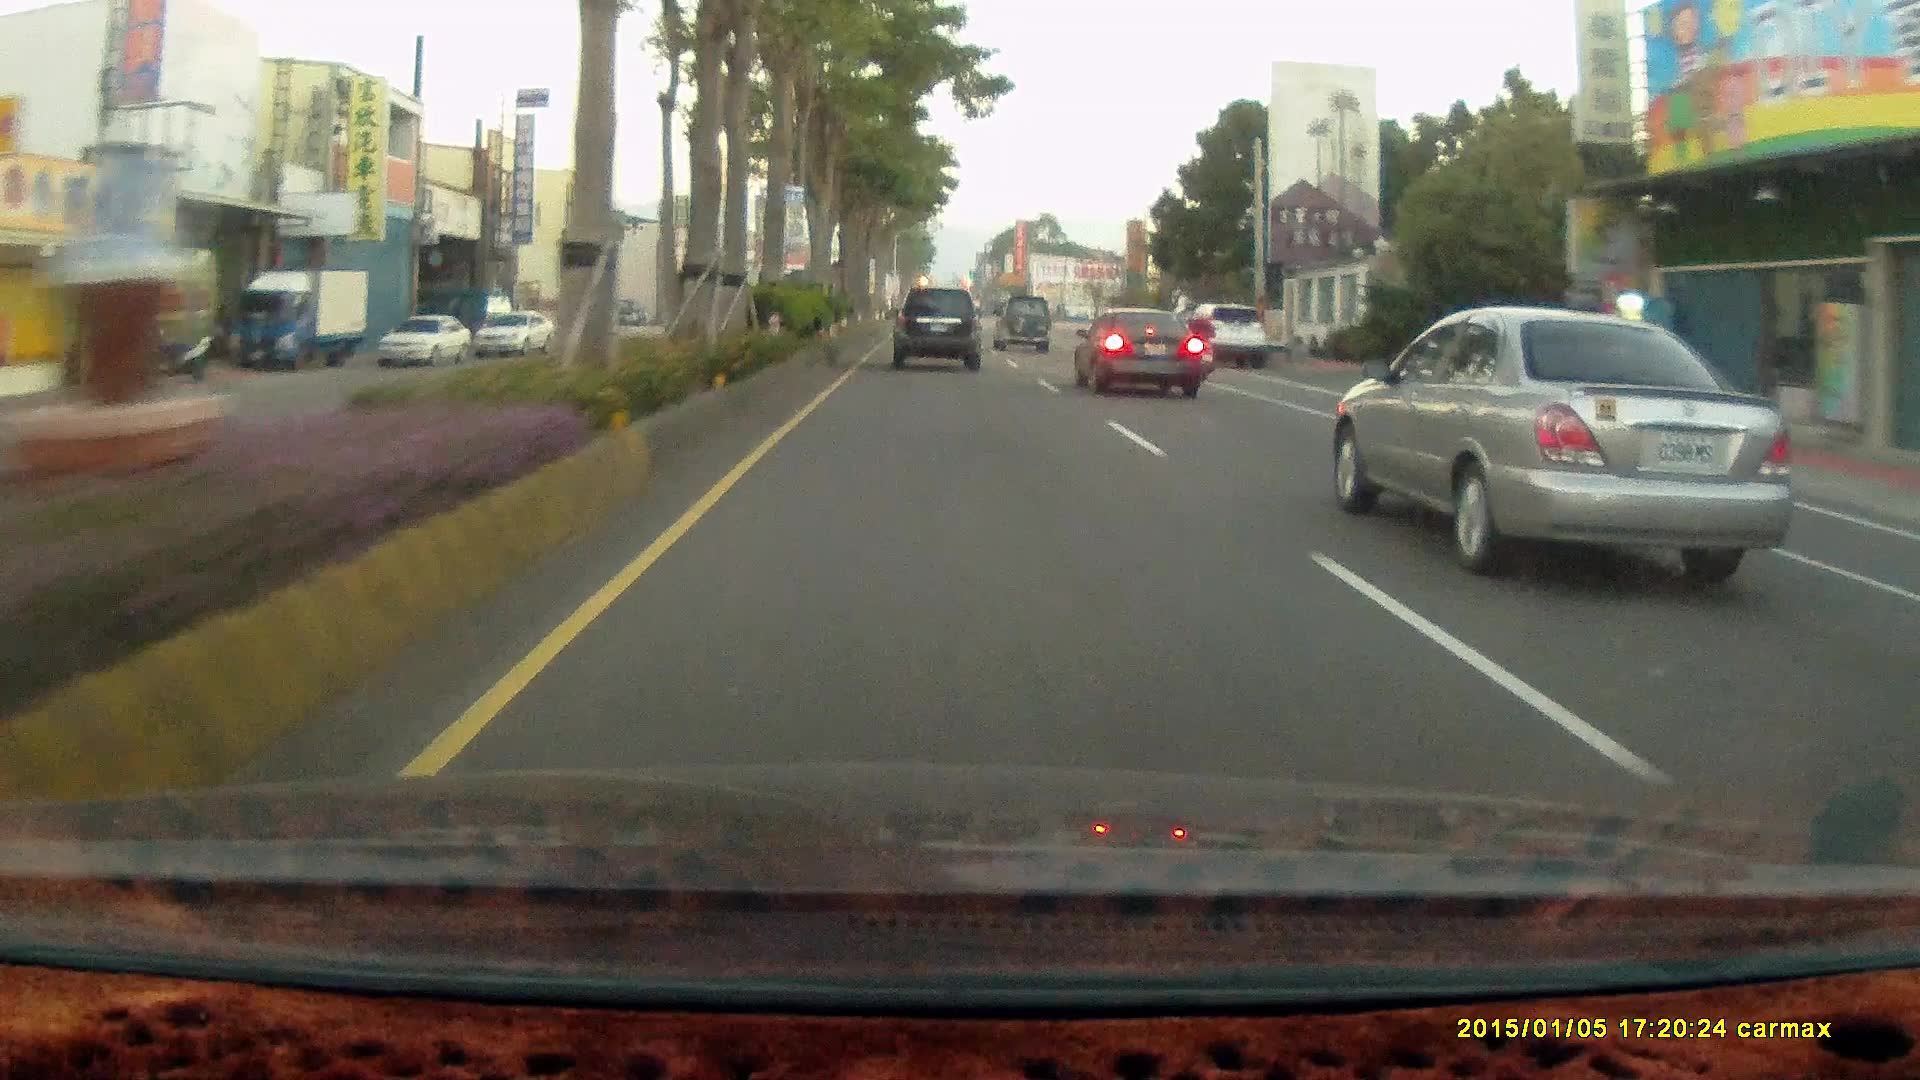rider: (1180, 299, 1221, 375)
vehicle: (1323, 298, 1795, 583), (225, 269, 374, 372), (225, 267, 370, 370), (1071, 304, 1208, 399), (1071, 303, 1205, 396), (888, 281, 988, 376), (889, 286, 978, 370), (1183, 301, 1268, 366), (381, 310, 474, 369), (1190, 302, 1269, 369), (379, 309, 470, 367), (475, 310, 556, 359), (992, 293, 1054, 355), (991, 294, 1051, 353)
